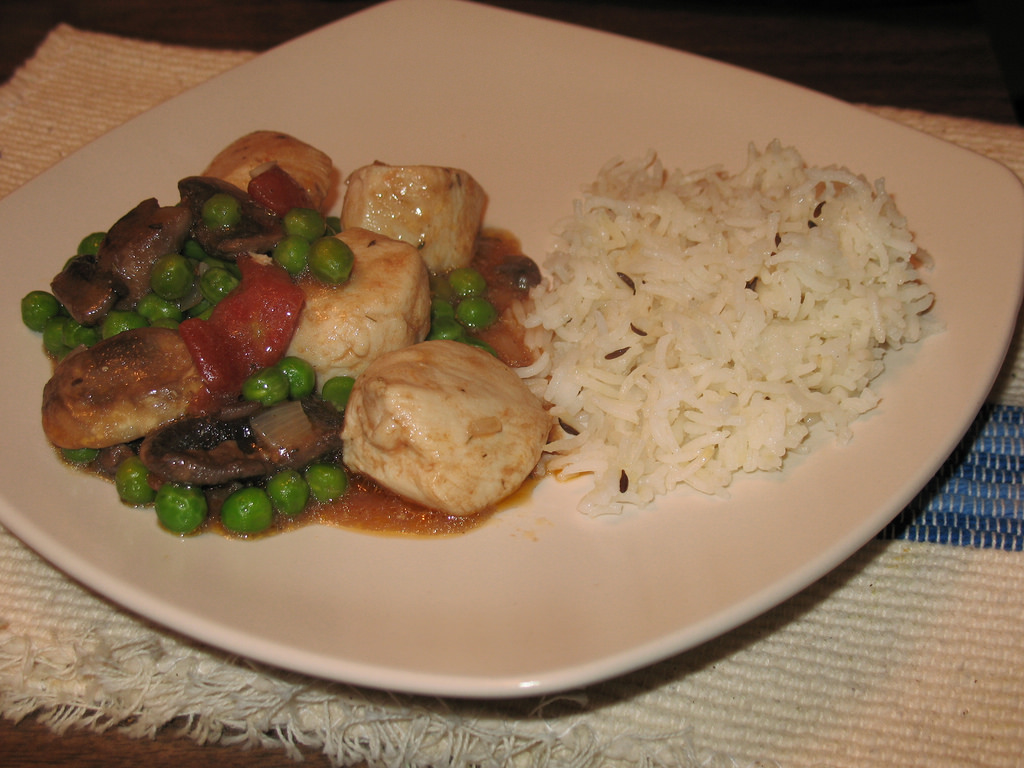boiled peas: (147, 486, 204, 535)
plain rice: (570, 171, 919, 479)
